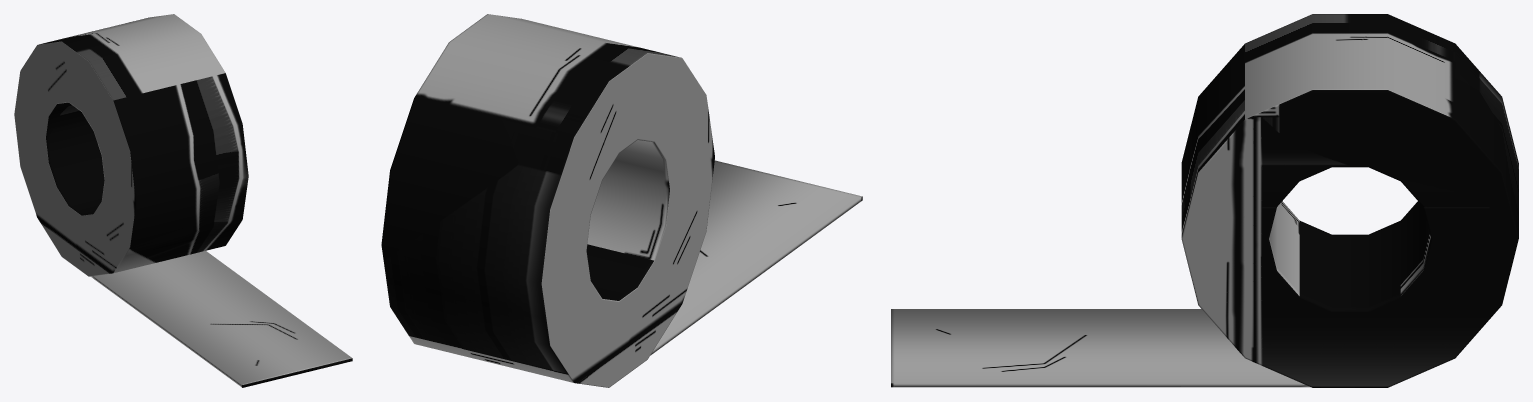
The model's file is PitaBoosterJadi.fbx.
3 views of the same model, side by side, from view 1: azimuth 30°, elevation 25°; view 2: azimuth 150°, elevation 25°; view 3: azimuth 270°, elevation 25° (orthographic). The views are drawn at different scales.
Visible parts, largest first — view 1: Circle.003; view 2: Circle.003; view 3: Circle.003.
Boxes of the visible parts, <box> form: Circle.003: <box>14,14,352,387</box>; Circle.003: <box>381,14,862,387</box>; Circle.003: <box>891,14,1518,387</box>.
Bounding box in the file's own units: 107 × 195 × 372.
